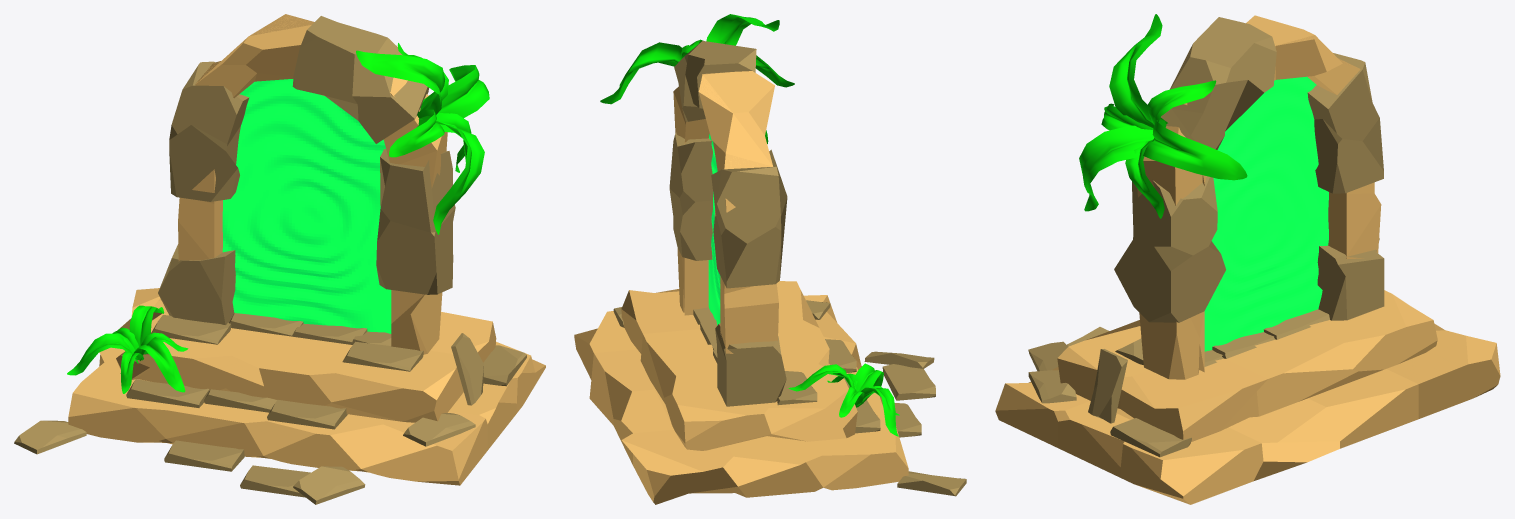
3 views of the same model, side by side, from view 1: azimuth 30°, elevation 25°; view 2: azimuth 150°, elevation 25°; view 3: azimuth 270°, elevation 25° (orthographic). The views are drawn at different scales.
Visible parts, largest first — view 1: Plane.003, Plane.001, Plane.004, Plane.002, Plane, Plane.007, Plane.006, Cube.012, Plane.009, Cube.013, Cube.004, Cube.008 (+15 smaller); view 2: Plane.004, Plane.001, Plane.002, Plane, Cube.011, Plane.006, Plane.007, Cube.014, Plane.003, Cube.005, Cube.012, Cube.013 (+5 smaller); view 3: Plane.001, Plane.004, Plane.003, Plane.002, Plane, Plane.006, Plane.009, Plane.007, Cube.003, Cube.010, Plane.011, Cube.009 (+5 smaller).
Boxes of the visible parts, left/top/right/bottom form: Plane.003: left=222, top=79, right=391, bottom=333; Plane.001: left=158, top=16, right=455, bottom=324; Plane.004: left=68, top=288, right=545, bottom=485; Plane.002: left=116, top=299, right=496, bottom=422; Plane: left=178, top=14, right=447, bottom=354; Plane.007: left=356, top=50, right=445, bottom=126; Plane.006: left=422, top=65, right=489, bottom=118; Cube.012: left=293, top=466, right=365, bottom=504; Plane.009: left=418, top=119, right=484, bottom=234; Cube.013: left=164, top=440, right=244, bottom=471; Cube.004: left=342, top=341, right=423, bottom=371; Cube.008: left=267, top=400, right=347, bottom=429; Plane.004: left=574, top=295, right=908, bottom=504; Plane.001: left=669, top=41, right=787, bottom=406; Plane.002: left=621, top=281, right=857, bottom=450; Plane: left=673, top=71, right=778, bottom=353; Cube.011: left=882, top=364, right=935, bottom=400; Plane.006: left=600, top=42, right=682, bottom=104; Plane.007: left=706, top=14, right=779, bottom=45; Cube.014: left=897, top=471, right=966, bottom=496; Plane.003: left=708, top=134, right=720, bottom=325; Cube.005: left=777, top=371, right=817, bottom=405; Cube.012: left=864, top=351, right=934, bottom=368; Cube.013: left=894, top=403, right=921, bottom=437; Plane.001: left=1114, top=17, right=1384, bottom=322; Plane.004: left=995, top=323, right=1500, bottom=504; Plane.003: left=1204, top=76, right=1328, bottom=351; Plane.002: left=1057, top=290, right=1437, bottom=441; Plane: left=1137, top=15, right=1381, bottom=379; Plane.006: left=1143, top=119, right=1247, bottom=180; Plane.009: left=1079, top=125, right=1154, bottom=211; Plane.007: left=1109, top=14, right=1167, bottom=127; Cube.003: left=1088, top=349, right=1127, bottom=423; Cube.010: left=1110, top=418, right=1191, bottom=457; Plane.011: left=1148, top=80, right=1216, bottom=124; Cube.009: left=1028, top=370, right=1076, bottom=403.
Size of the model in its own units: 581 by 457 by 532.
